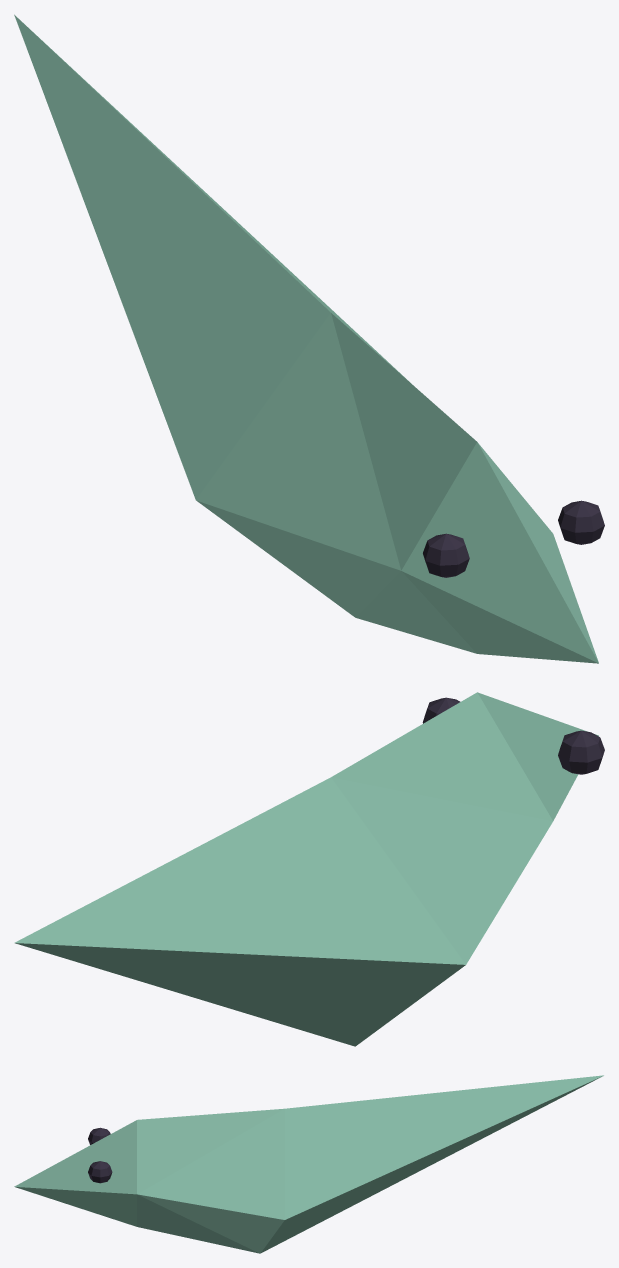
The model's file is SH_Bird_Body_Mint.fbx.
3 renders of one model, top to bottom at view 1: azimuth 30°, elevation 25°; view 2: azimuth 150°, elevation 25°; view 3: azimuth 270°, elevation 25°, orthographic. The views are drawn at different scales.
Visible parts, largest first — view 1: SH_Bird_Body_Mint; view 2: SH_Bird_Body_Mint; view 3: SH_Bird_Body_Mint.
Boxes of the visible parts, x1,y1,x2,y2 form: SH_Bird_Body_Mint: (14, 14, 604, 663); SH_Bird_Body_Mint: (14, 692, 604, 1046); SH_Bird_Body_Mint: (14, 1075, 603, 1253).
Size of the model in its own units: 0.064 by 0.08 by 0.24.
